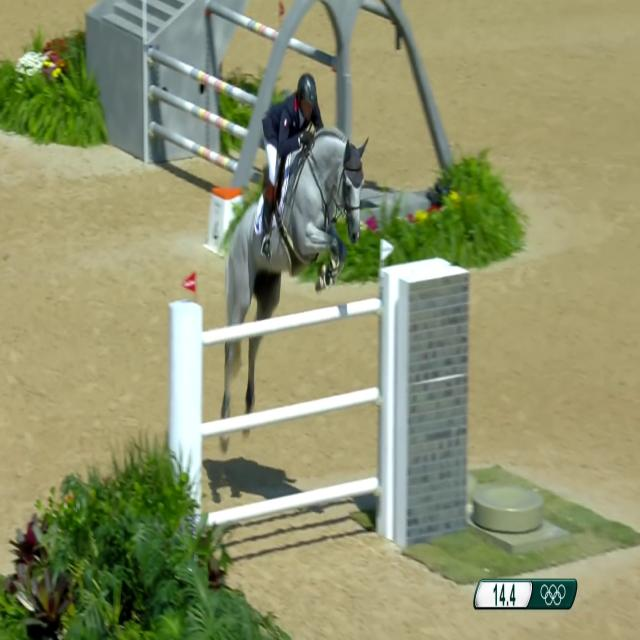Horse Jumping: (215, 122, 375, 502)
Horse Rider: (247, 70, 325, 299)
